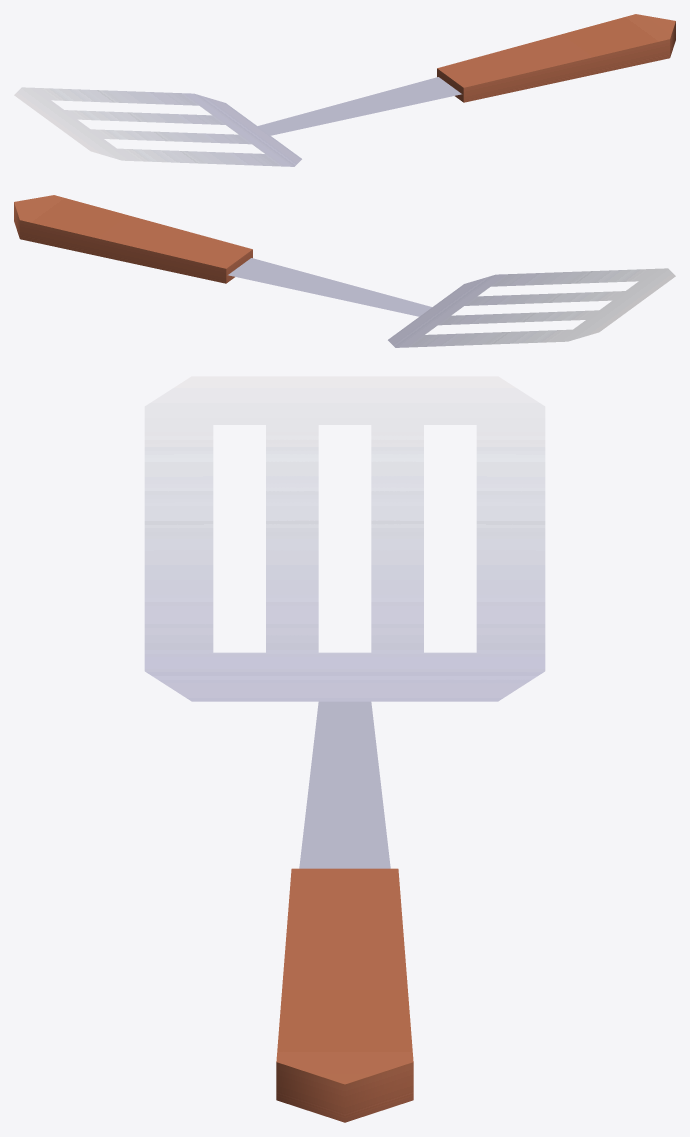
File: cooking-spatula.glb
3 views of the same model, one above another, from view 1: azimuth 30°, elevation 25°; view 2: azimuth 150°, elevation 25°; view 3: azimuth 270°, elevation 25° (orthographic). The views are drawn at different scales.
Visible parts, largest first — view 1: cooking-spatula; view 2: cooking-spatula; view 3: cooking-spatula.
Part boxes in pixels (x1,y1,x2,y2): cooking-spatula: (14,14,675,166); cooking-spatula: (14,195,675,347); cooking-spatula: (144,376,545,1122).
Bounding box in the file's own units: 0.6827 × 0.0721 × 0.19.
Materials: 1 (1 with a texture image).
